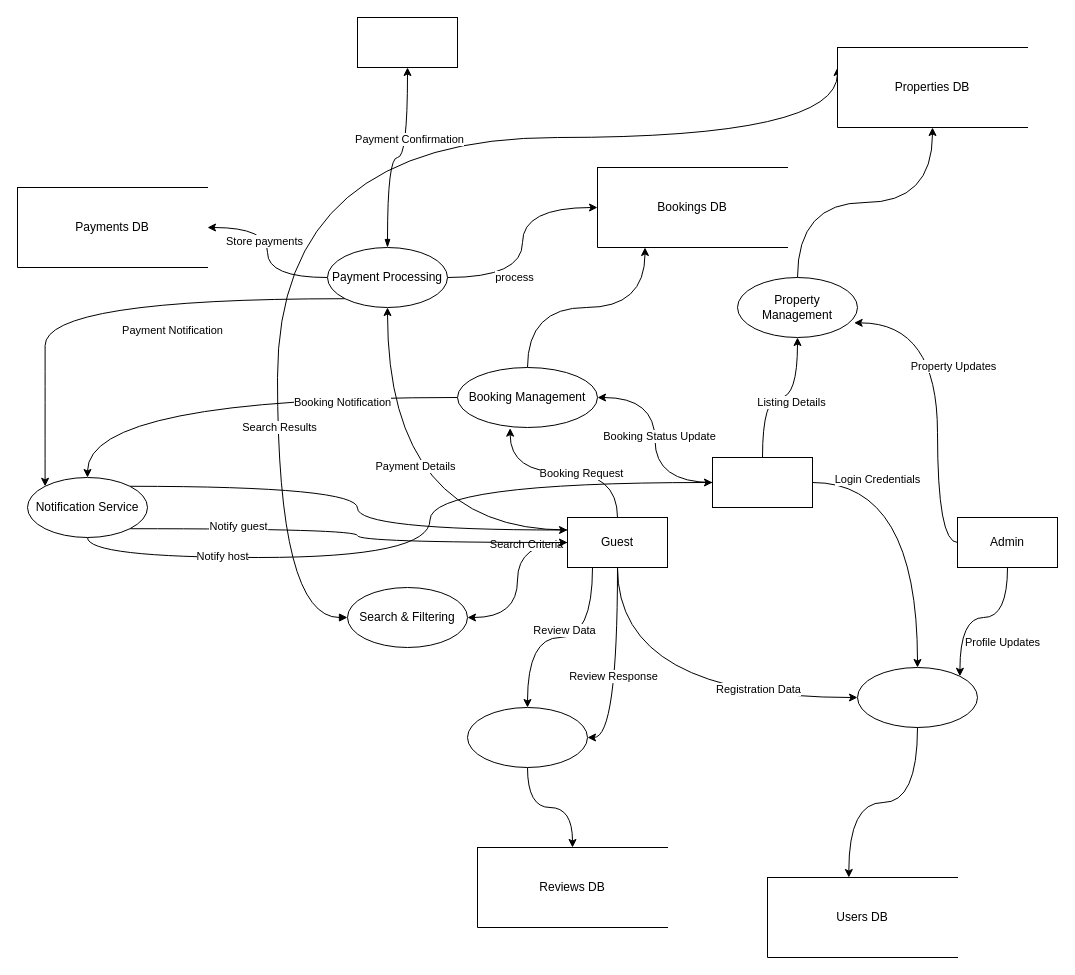
Some shapes in this 1075 by 975 pixel diagram are drawn without their labels. The centre of each missing label's shape, as x and y in pixels:
"Host" belongs at point 762,482.
"Payment Gateway" belongs at point 407,42.
"Reviews & Ratings" belongs at point 527,737.
"User Management" belongs at point 917,697.
